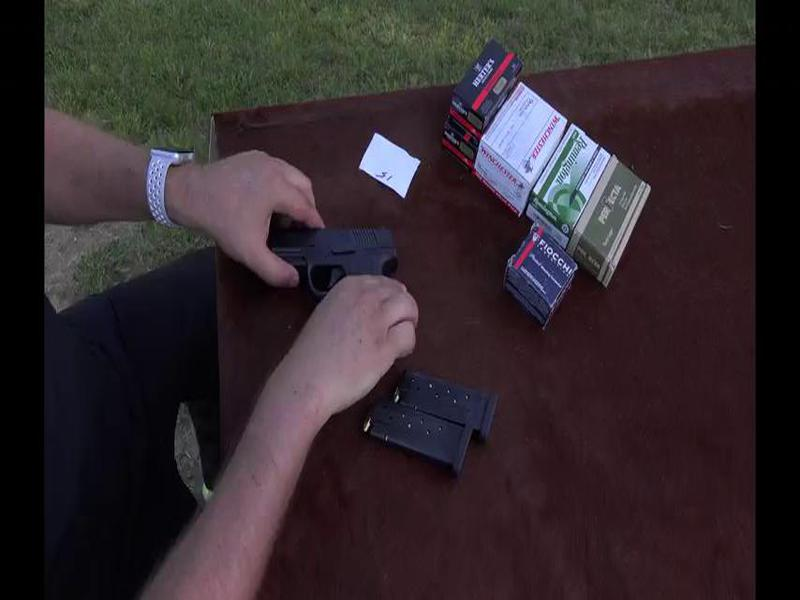Pistola: (247, 214, 431, 358)
